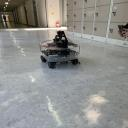cart: (39, 42, 80, 68)
